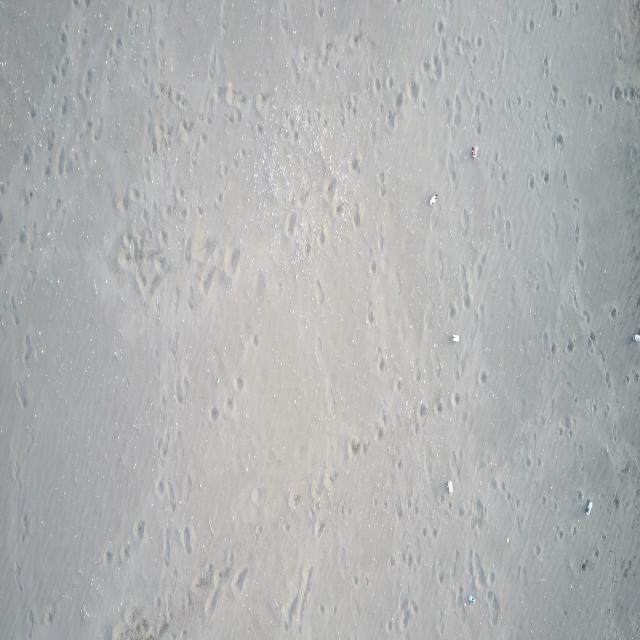Garbage: (584, 500, 592, 513), (449, 333, 459, 342), (471, 145, 477, 158), (428, 193, 435, 204), (467, 595, 475, 604), (632, 332, 639, 342), (447, 480, 451, 493)
